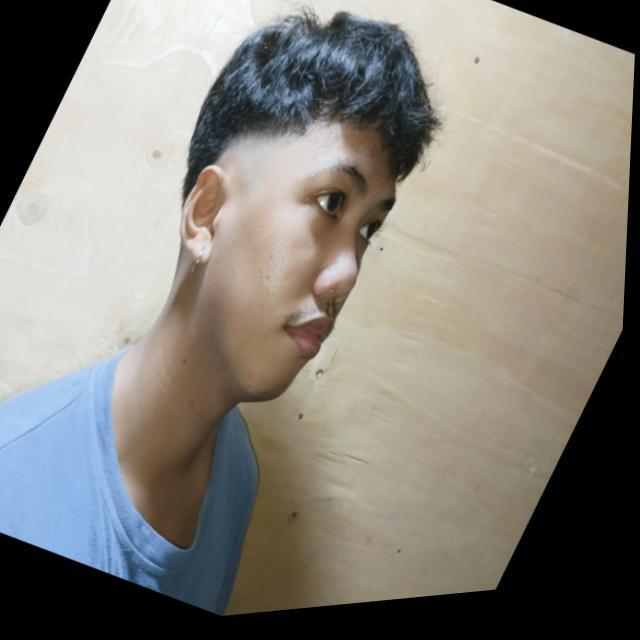Nonhelmet: (166, 7, 444, 408)
